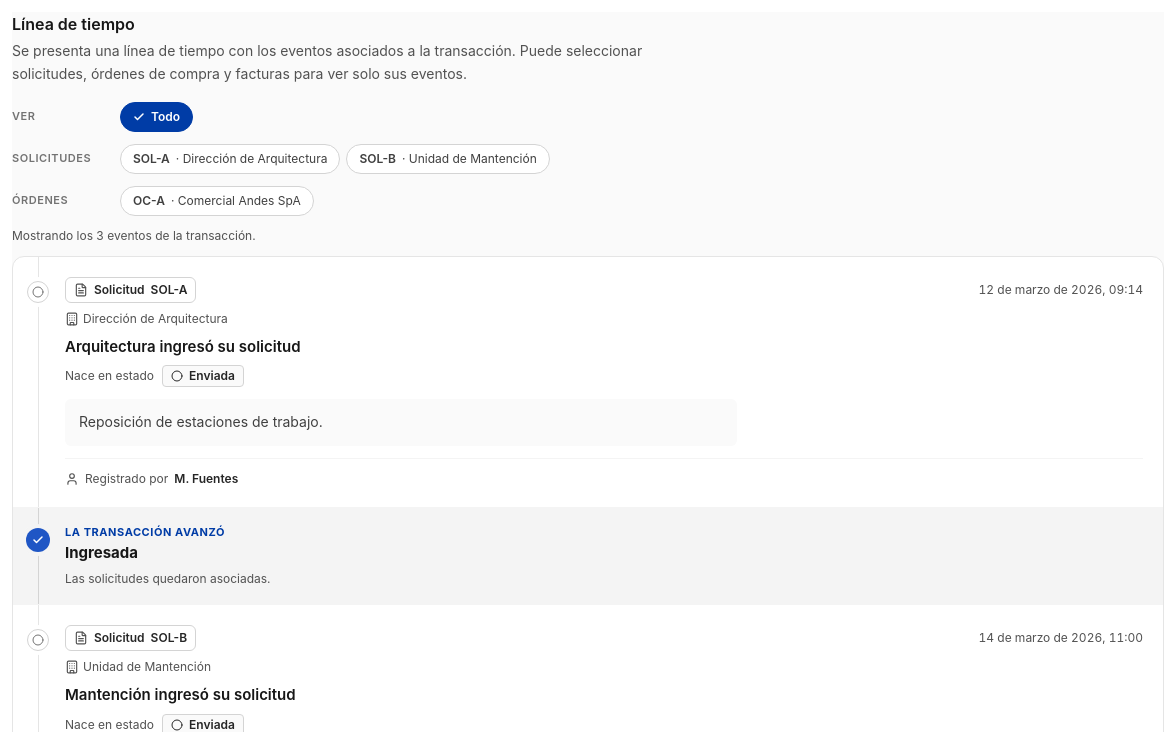
it: LineaDeTiempo › acumula varias entidades en la selección
Click the button "SOL-A · Dirección de Arquitectura".
click(230, 158)  # box [120,144,340,174]
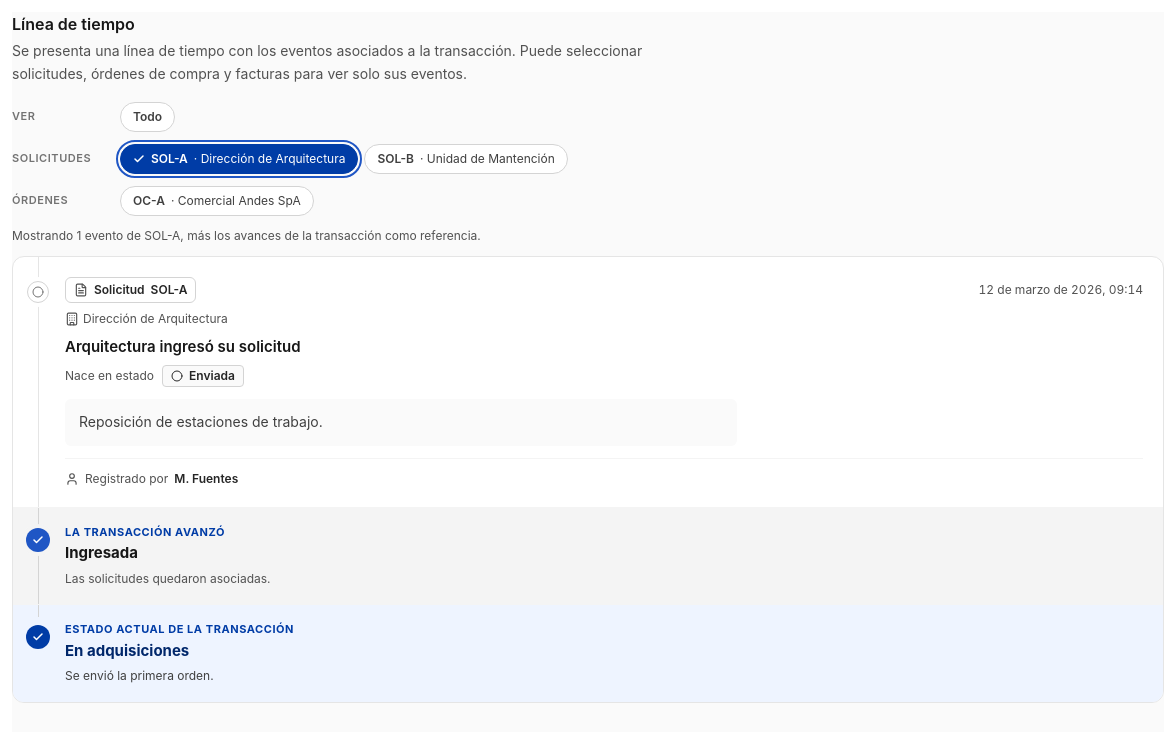
Click the button "OC-A · Comercial Andes SpA".
click(217, 200)  # box [120,186,314,216]
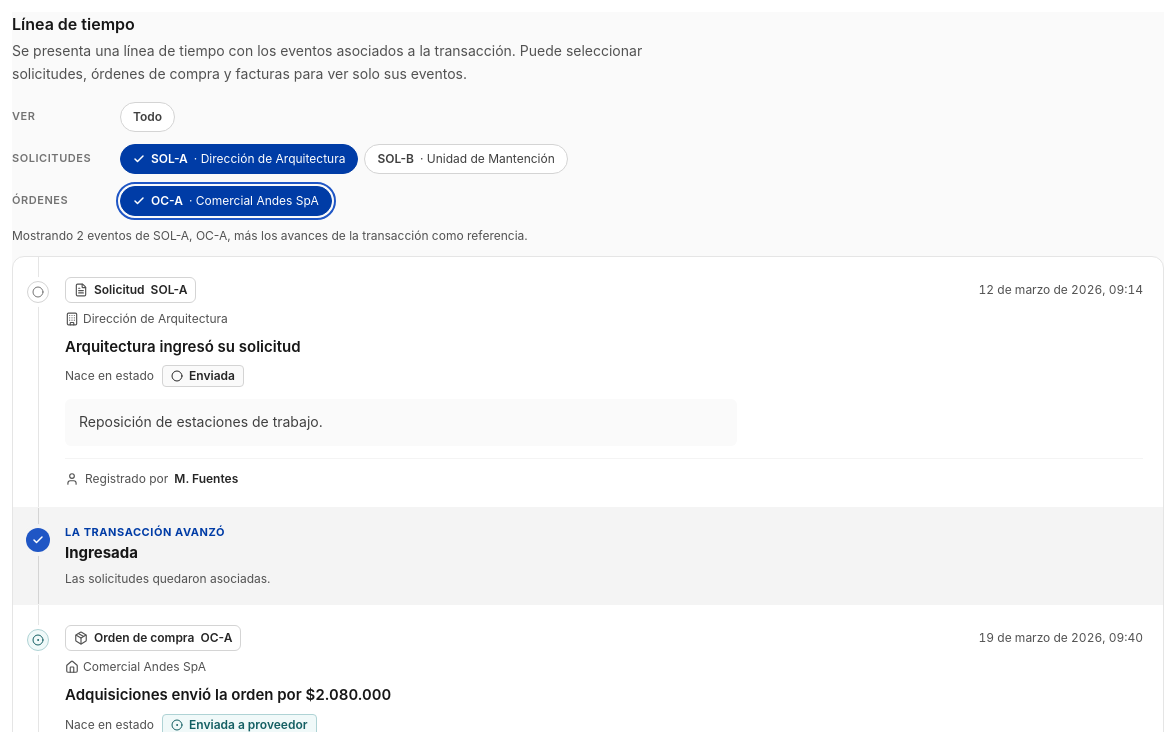
Expected: the heading "Arquitectura ingresó su solicitud" is shown, [65,336,300,356]
Now the heading "Adquisiciones envió la orden por $2.080.000" is shown, box [65,685,391,704]
